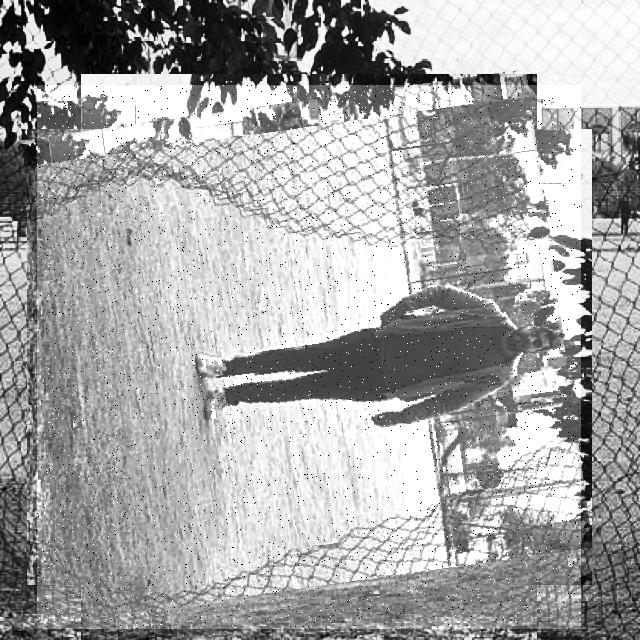anomaly-fence: (37, 85, 581, 629)
